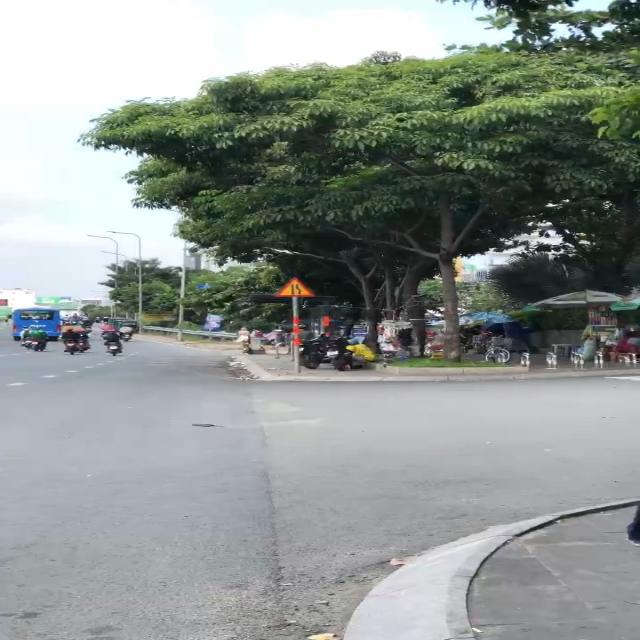Bien bao duong bi thu hep: (276, 274, 318, 300)
